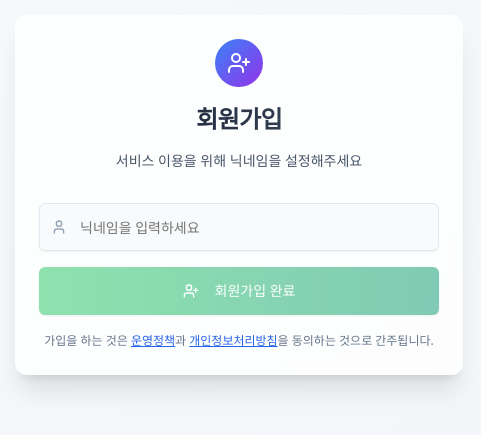
Test: Auth › shows an unavailable nickname inline and does not navigate
Type "테스터" into the field with placeholder "닉네임을 입력하세요" at (239, 227), box [39, 203, 439, 251]
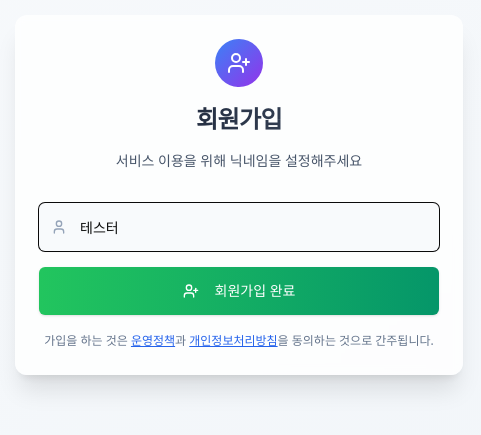
Click the button "회원가입 완료" at (239, 291), box [39, 267, 439, 315]
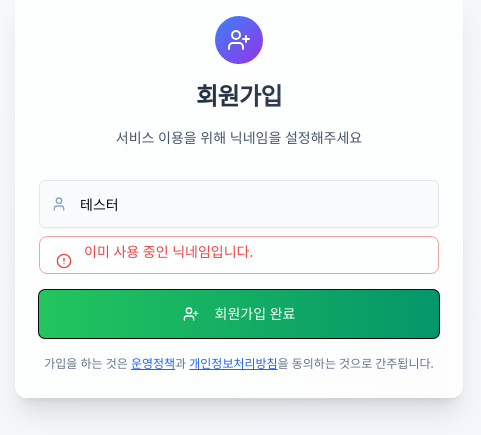
Expected: the text "이미 사용 중인 닉네임입니다." is shown, [84, 242, 253, 261]
